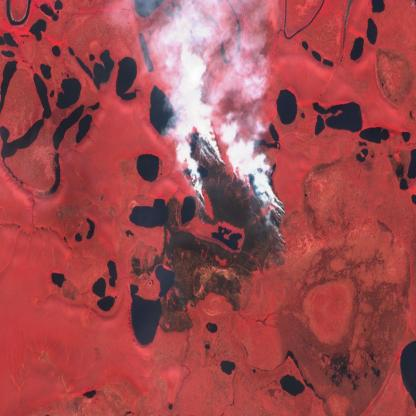fire: (184, 112, 290, 256)
